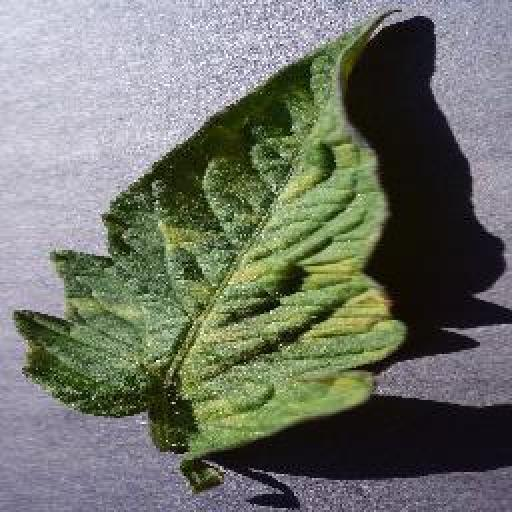disease_tomato: (15, 4, 408, 456)
